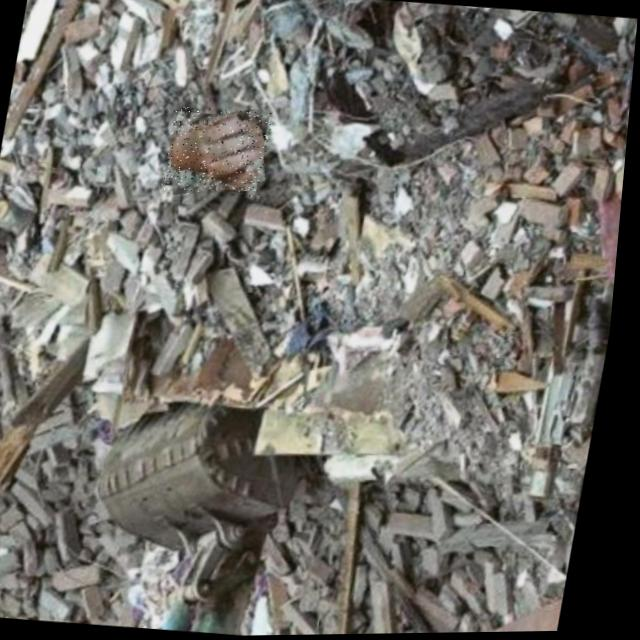Person in Rubble: (163, 104, 276, 197)
